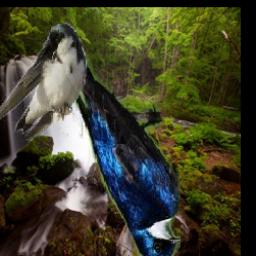Swallow: (60, 52, 182, 256), (0, 22, 89, 142)
